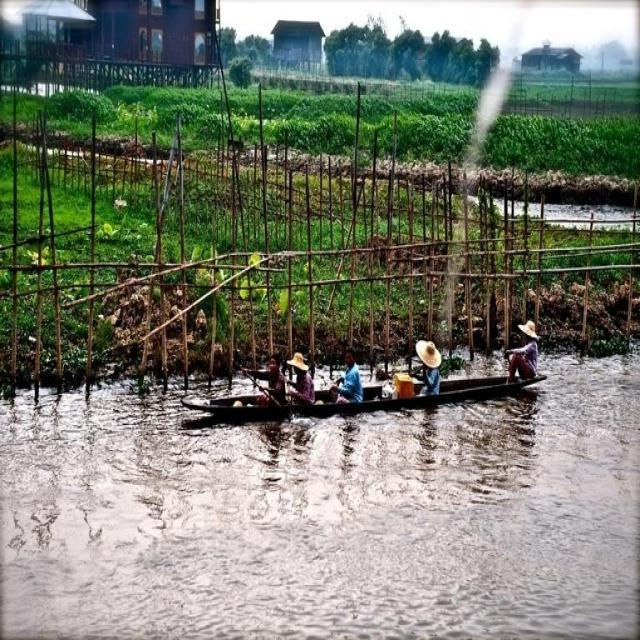boat: (179, 353, 541, 438)
